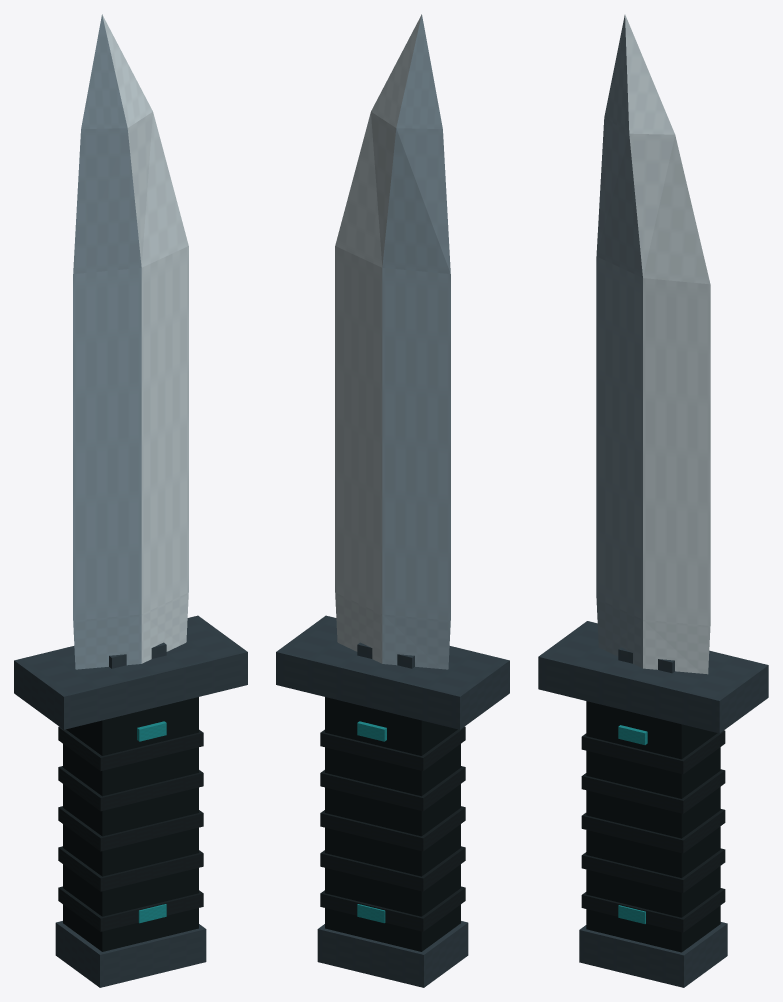
Rendered from knife_textured.fbx.
3 views of the same model, side by side, from view 1: azimuth 30°, elevation 25°; view 2: azimuth 150°, elevation 25°; view 3: azimuth 330°, elevation 25° (orthographic).
Parts seen in each view (by area): view 1: Knife_Textured_Mesh; view 2: Knife_Textured_Mesh; view 3: Knife_Textured_Mesh.
Boxes of the visible parts, <box> form: Knife_Textured_Mesh: <box>14,14,247,987</box>; Knife_Textured_Mesh: <box>276,14,509,987</box>; Knife_Textured_Mesh: <box>538,14,768,987</box>.
Bounding box in the file's own units: 35 × 173 × 16.4.
1 material, 1 textured.
